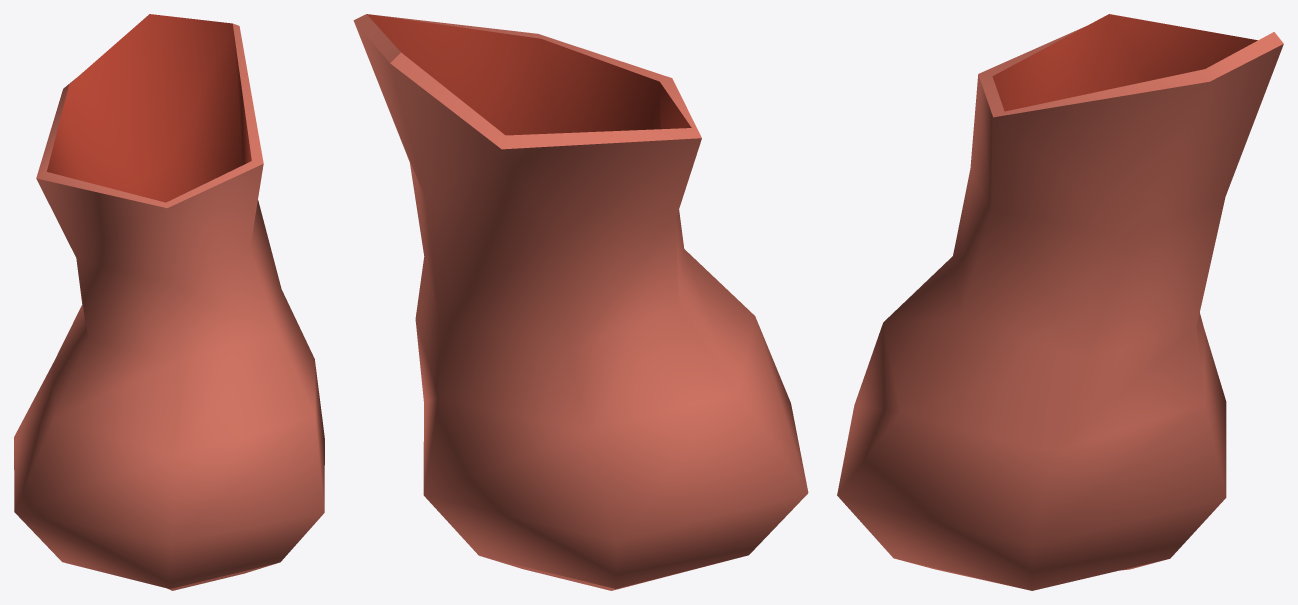
Rendered from bag.fbx.
The picture shows the model from 3 angles, left to right: view 1: azimuth 30°, elevation 25°; view 2: azimuth 150°, elevation 25°; view 3: azimuth 270°, elevation 25°; orthographic projection. The views are drawn at different scales.
Visible parts, largest first — view 1: bag; view 2: bag; view 3: bag.
Boxes of the visible parts, x1=… form: bag: x1=14, y1=14, x2=324, y2=590; bag: x1=353, y1=14, x2=808, y2=590; bag: x1=837, y1=14, x2=1283, y2=590.
Size of the model in its own units: 28.69 by 39.78 by 28.59.
Materials: 1 (1 with a texture image).
